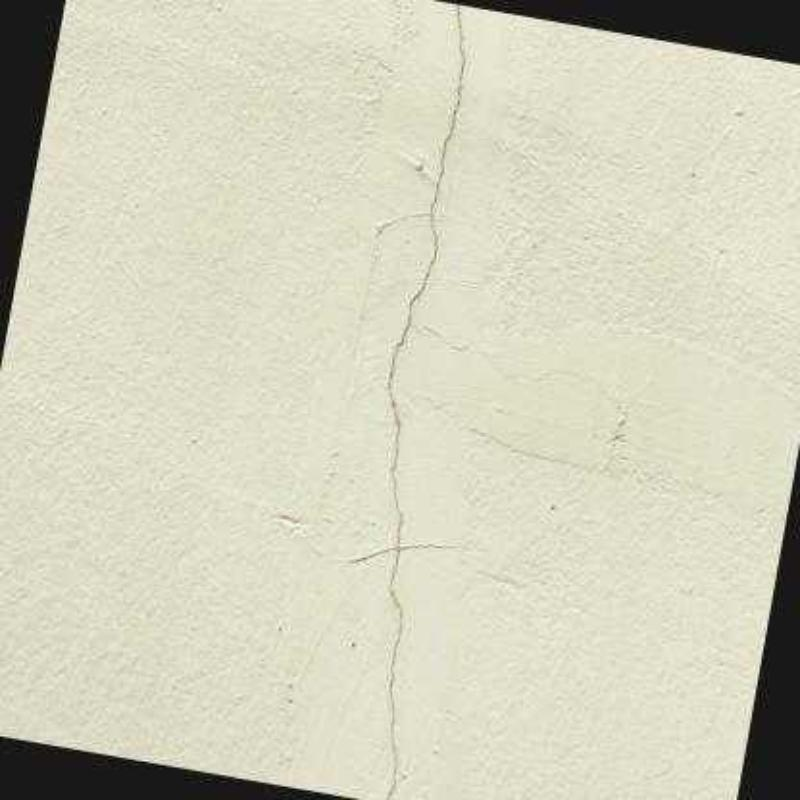pothole: (347, 4, 465, 798)
